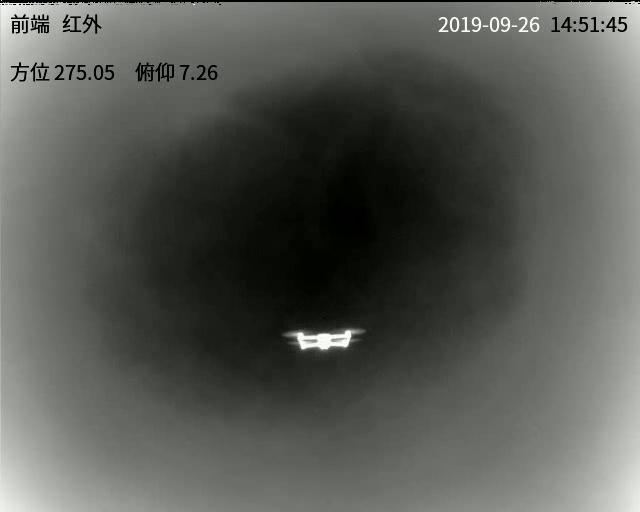DRONE: (288, 329, 360, 351)
